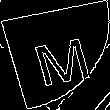M_N: (21, 24, 89, 86)
